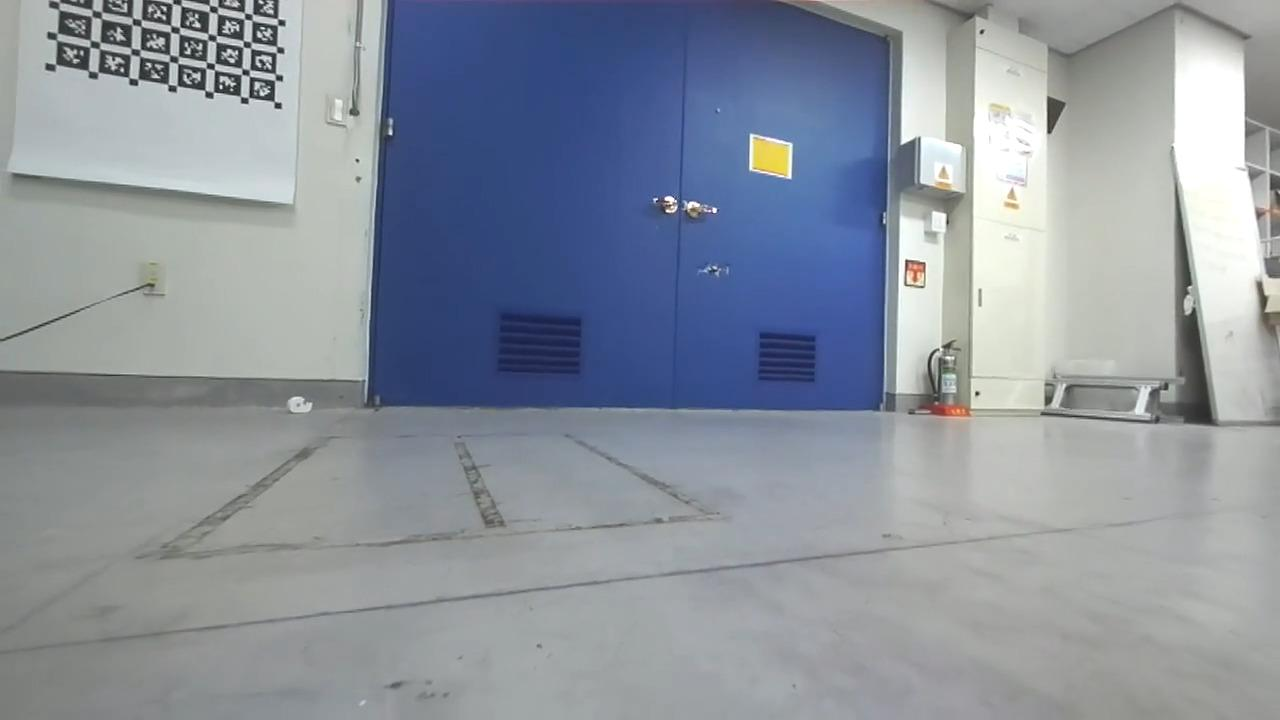crazyflie: (687, 256, 737, 284)
